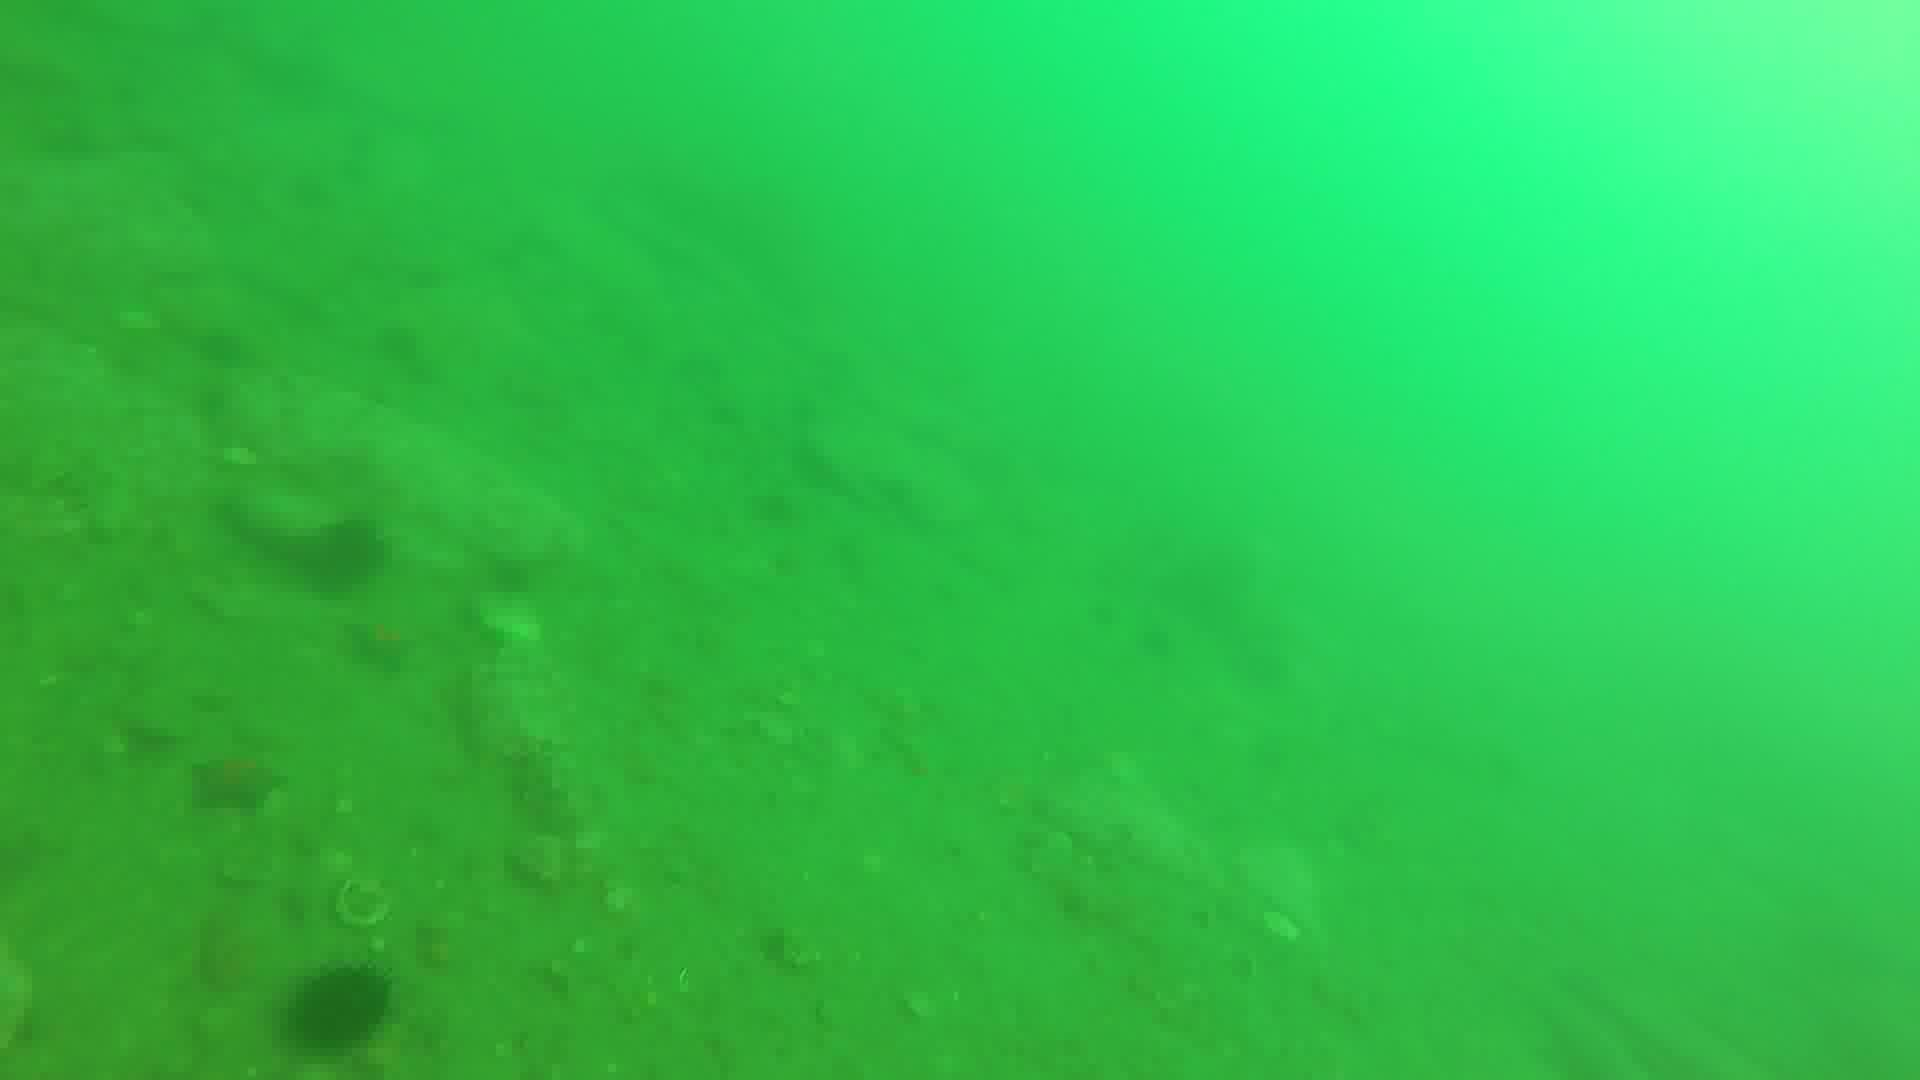echinus: (295, 969, 396, 1055), (322, 516, 394, 593)
starfish: (191, 754, 281, 815), (349, 617, 421, 673)
